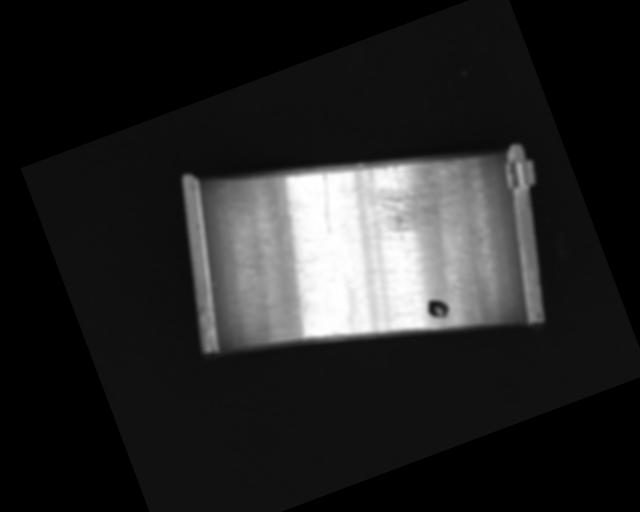blot: (424, 294, 452, 322)
nick: (205, 255, 275, 351), (307, 173, 346, 236)
scratch: (352, 133, 479, 248)
